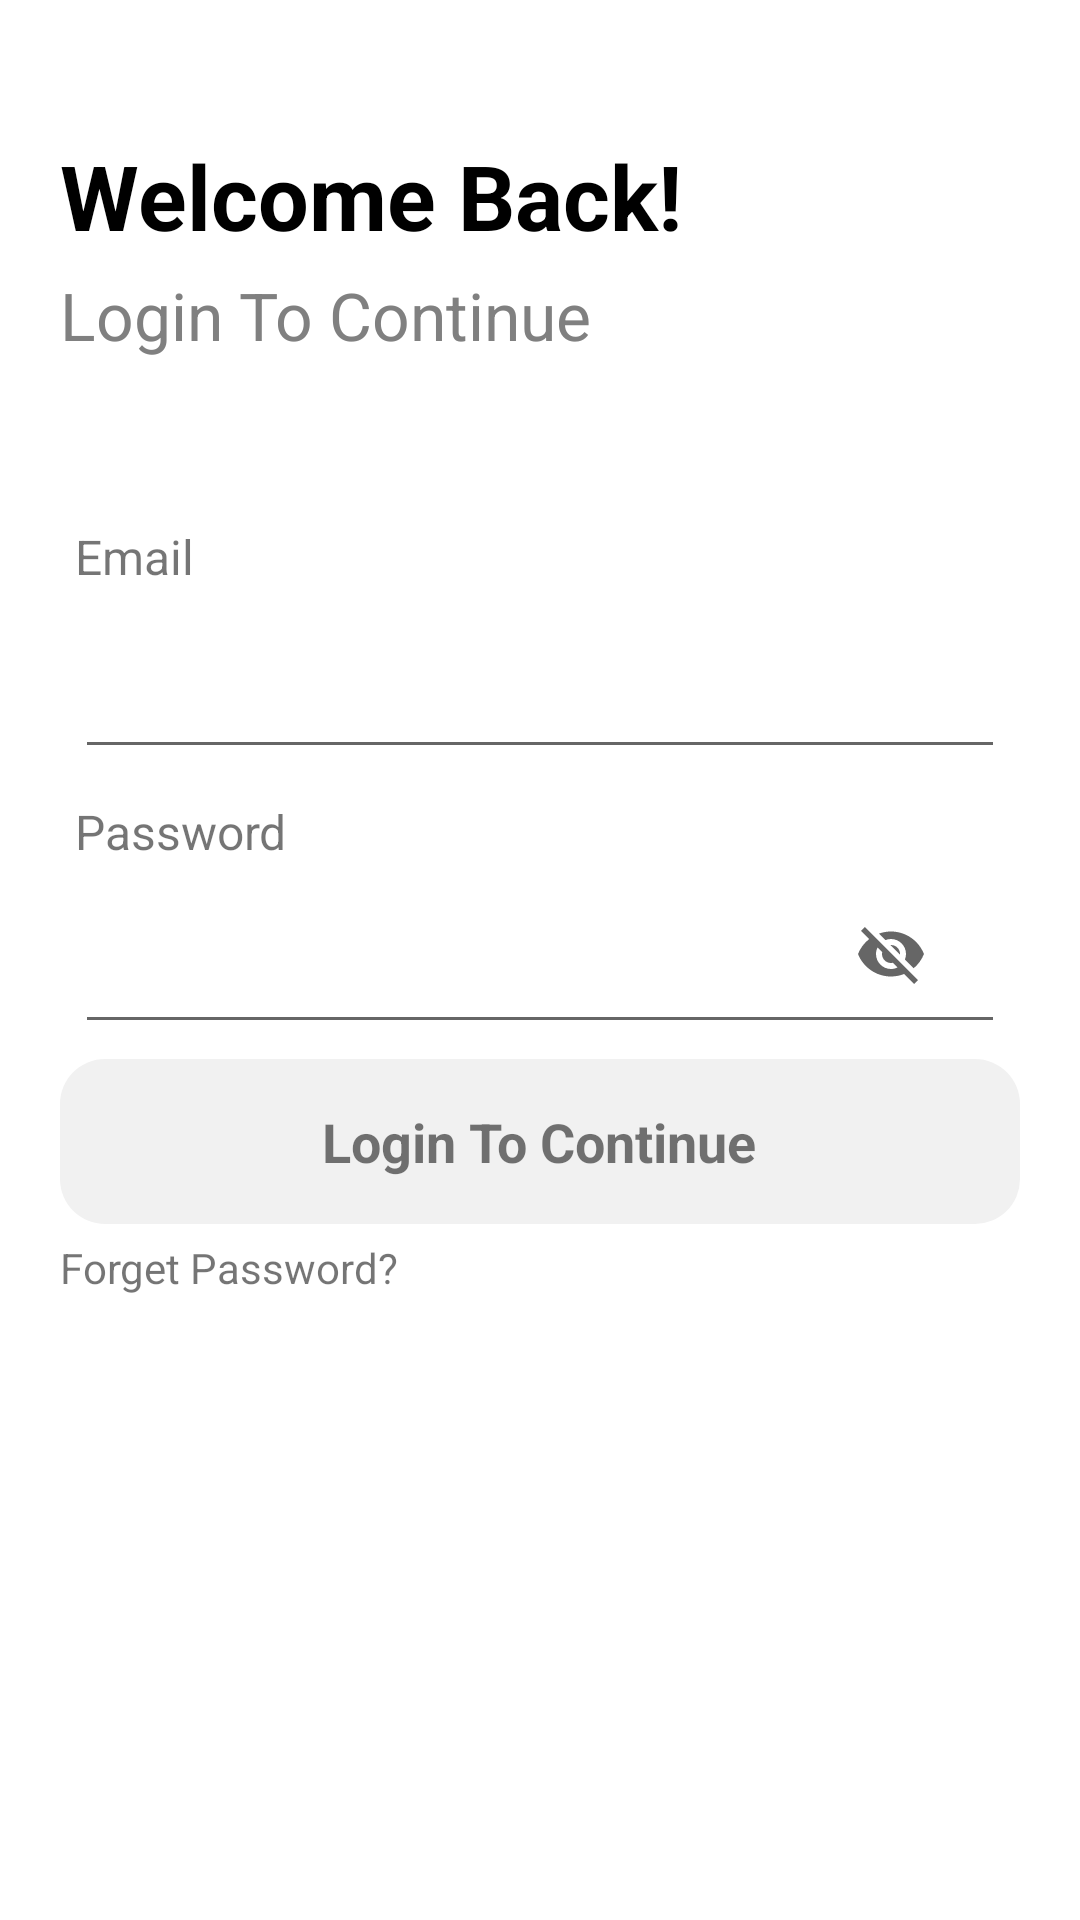

Icon click points for this 1080*1920 phone screenshot, format point (x, y):
hidepassword: point (891, 955)
